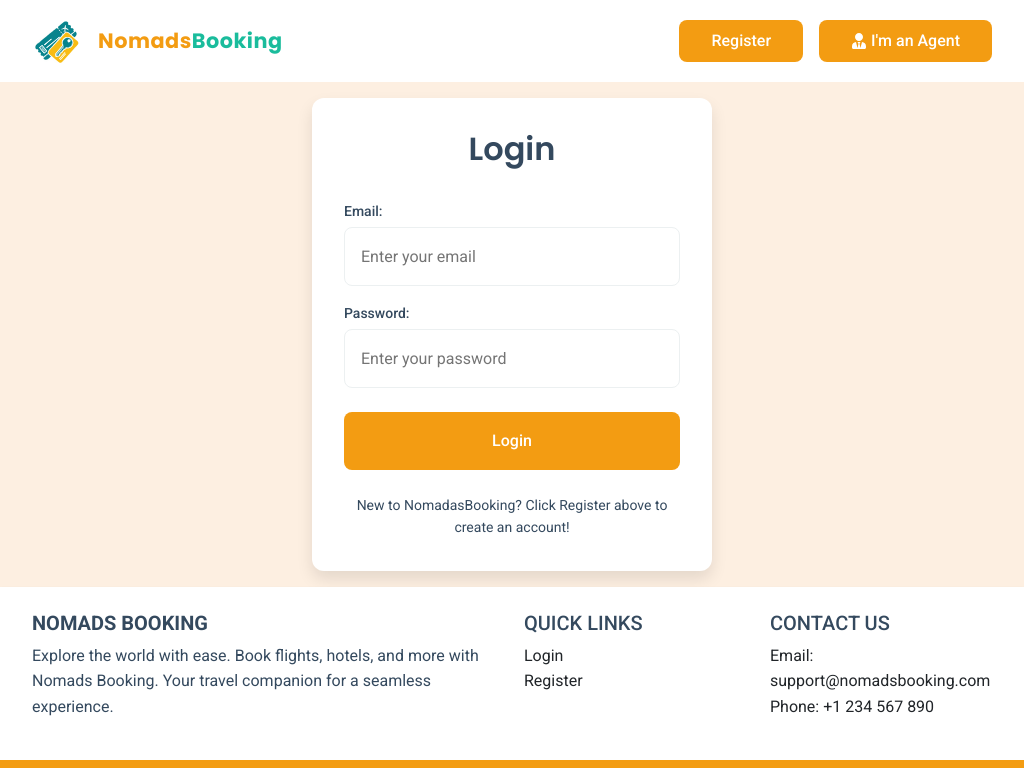
Test: LoginUser Component › shows error message on failed login
This screenshot has width=1024, height=768.
Type "test@example.com" into the field labelled "Email:".
click(512, 257); type("test@example.com")  # box [344, 227, 680, 286]
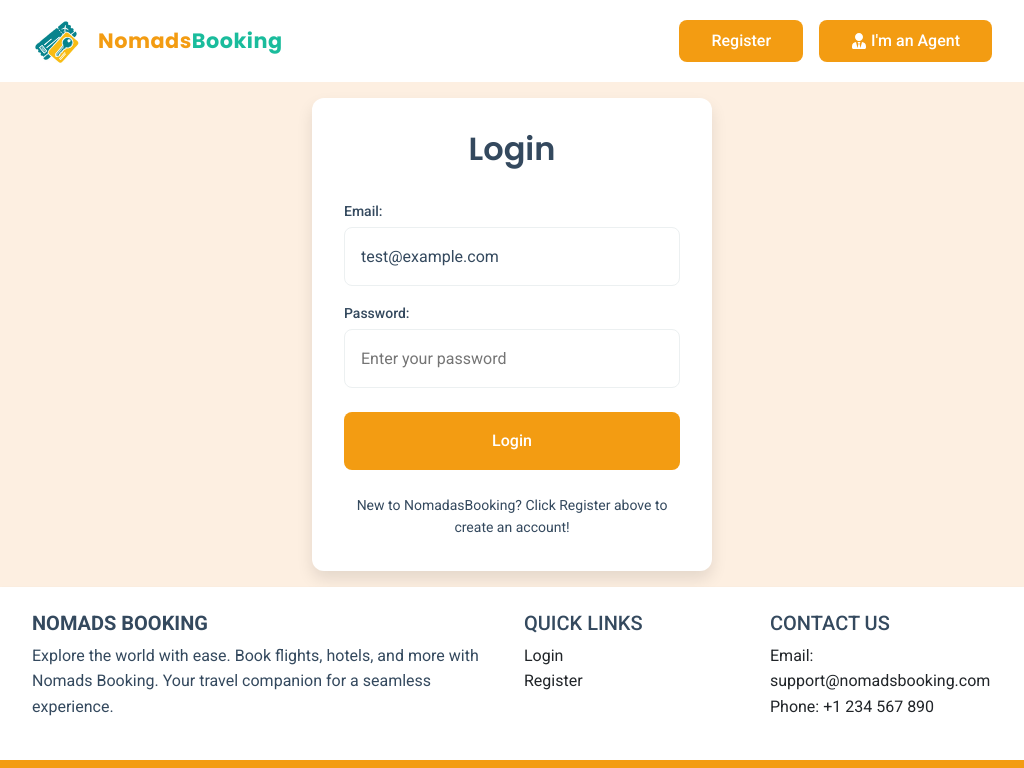
Type "wrongpassword" into the password field labelled "Password:".
click(512, 359); type("wrongpassword")  # box [344, 329, 680, 388]
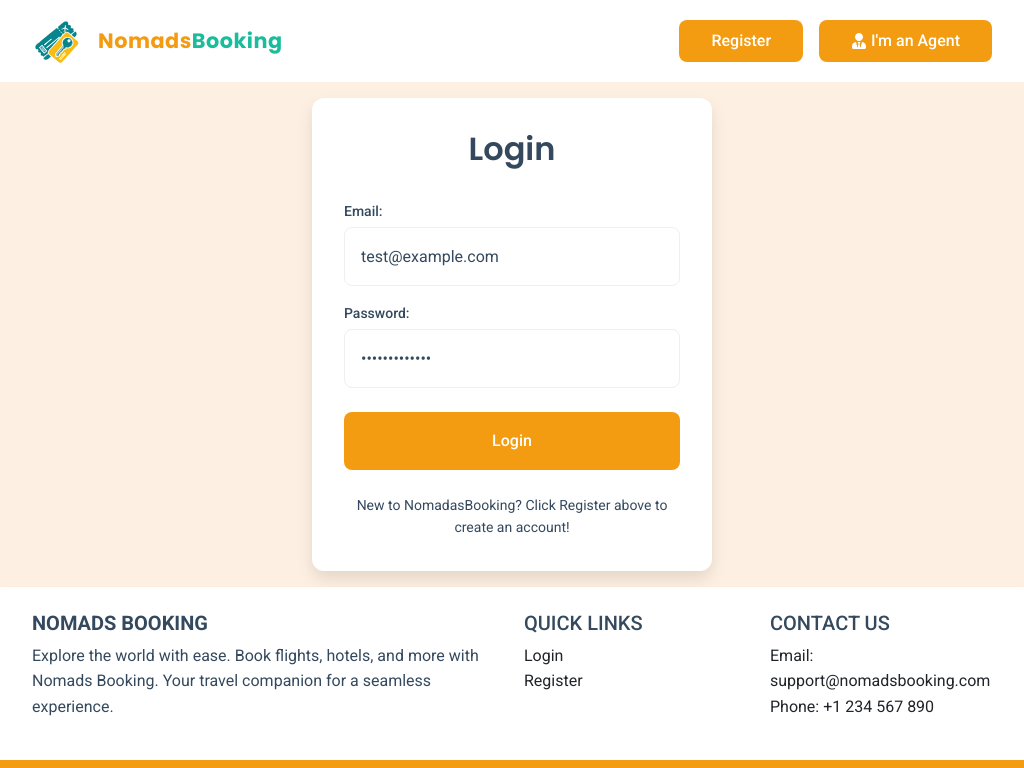
Click the button "Login".
click(512, 441)  # box [344, 412, 680, 470]
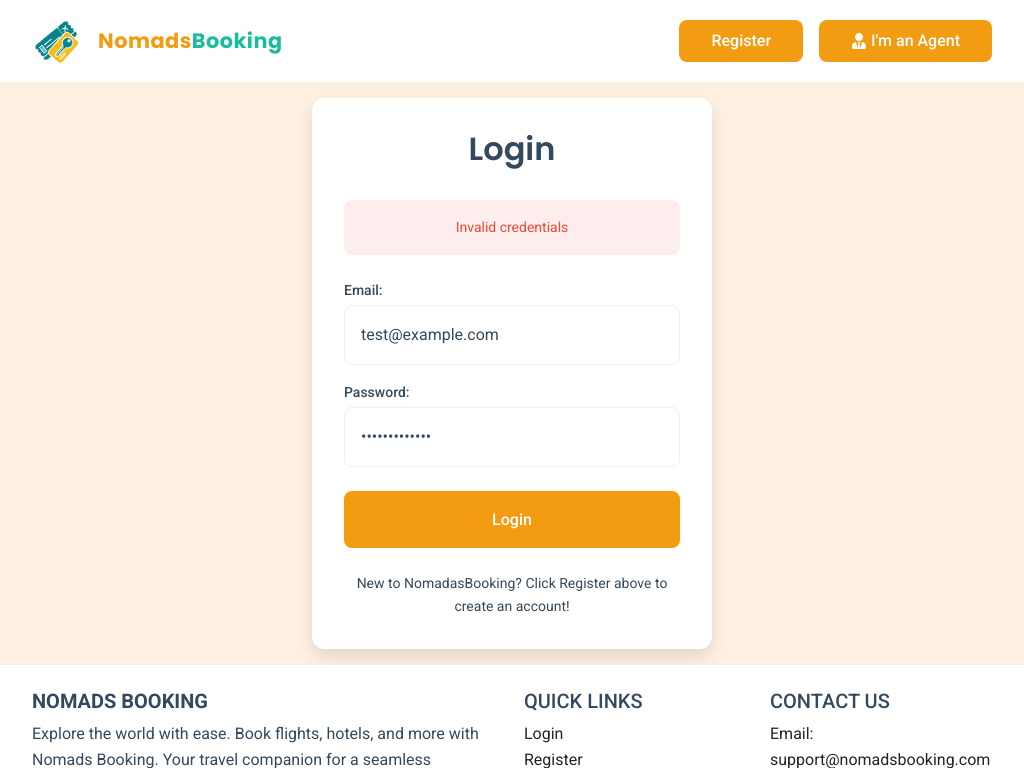
Check: the text "Invalid credentials" is shown, box [344, 200, 680, 255]
